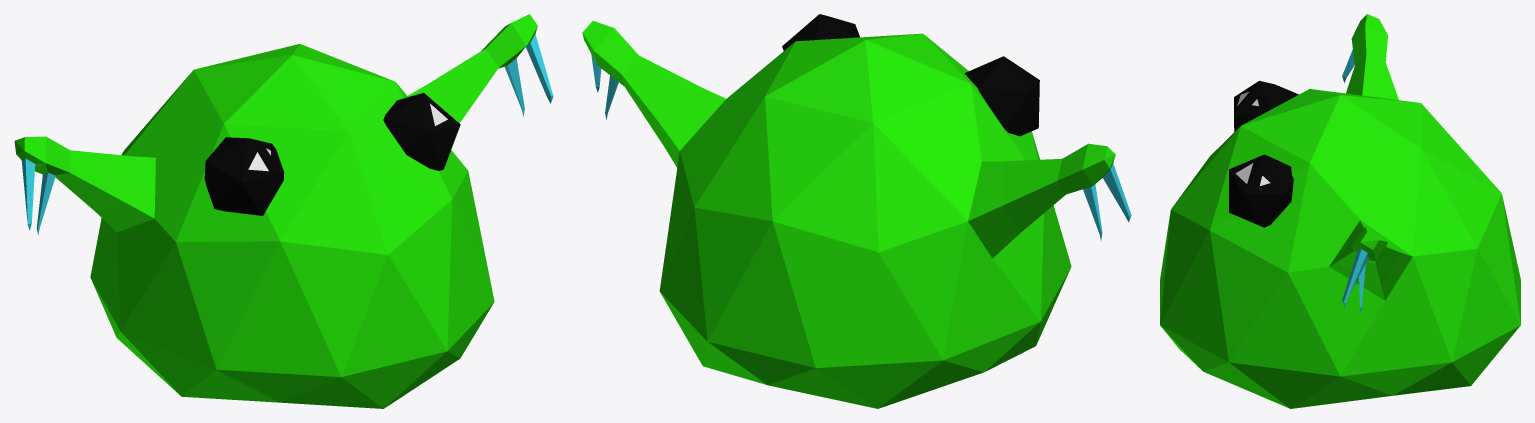
Rendered from slime.fbx.
3 views of the same model, side by side, from view 1: azimuth 30°, elevation 25°; view 2: azimuth 150°, elevation 25°; view 3: azimuth 270°, elevation 25° (orthographic). The views are drawn at different scales.
Parts seen in each view (by area): view 1: Icosphere; view 2: Icosphere; view 3: Icosphere.
Boxes of the visible parts, x1=… form: Icosphere: x1=14, y1=14, x2=553, y2=408; Icosphere: x1=582, y1=14, x2=1131, y2=408; Icosphere: x1=1160, y1=14, x2=1520, y2=408.
Size of the model in its own units: 100 by 56.58 by 67.21.
